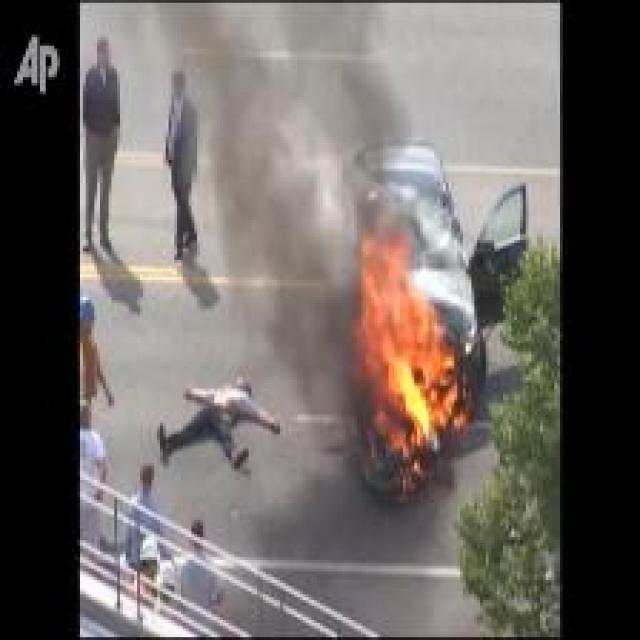Fire: (356, 207, 468, 462)
